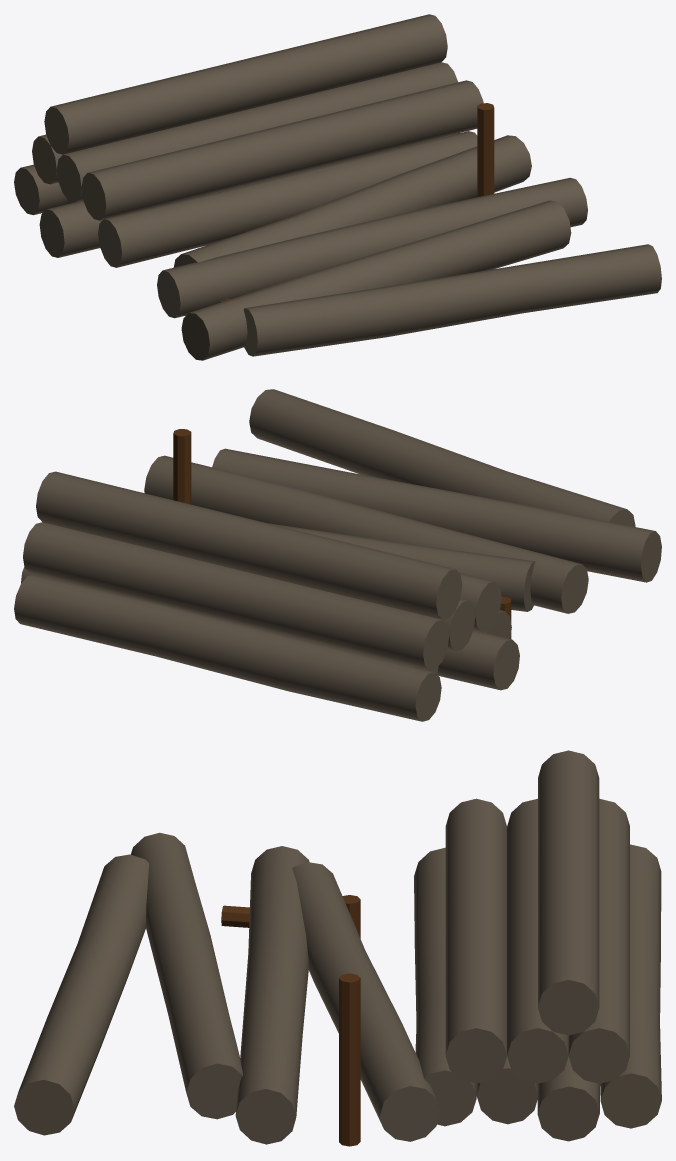
File: brennholzstapel_kaputt.glb
The picture shows the model from 3 angles, top to bottom: view 1: azimuth 30°, elevation 25°; view 2: azimuth 150°, elevation 25°; view 3: azimuth 270°, elevation 25°; orthographic projection. The views are drawn at different scales.
Visible parts, largest first — view 1: brennholzstapel_kaputt; view 2: brennholzstapel_kaputt; view 3: brennholzstapel_kaputt.
Part boxes in pixels (<box>): brennholzstapel_kaputt: <box>14,14,661,360</box>; brennholzstapel_kaputt: <box>14,389,661,721</box>; brennholzstapel_kaputt: <box>14,750,661,1146</box>.
Size of the model in its own units: 1.7 by 0.5644 by 1.79.
